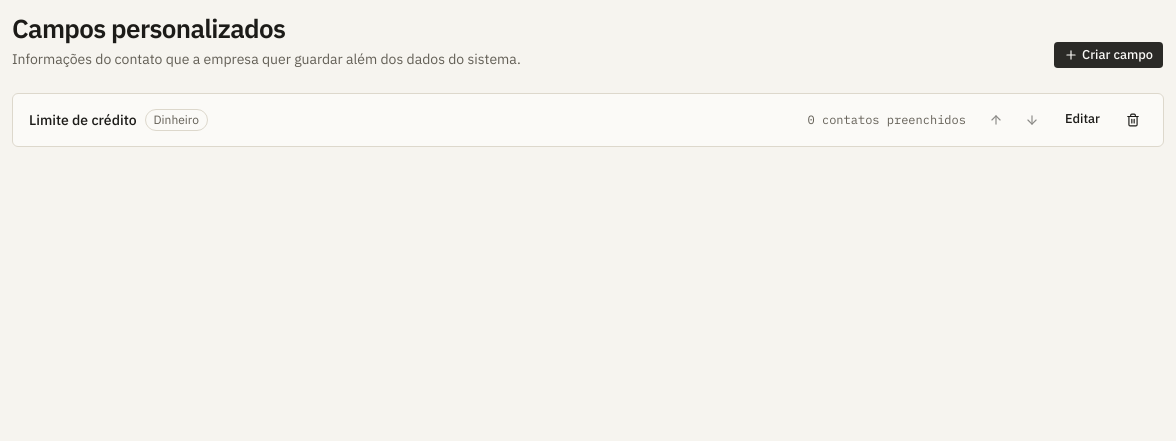
Scenario: B38-05 — variáveis com texto reserva nas telas › CA-B38-14: should mostrar a variável do campo no editor do campo
This screenshot has width=1176, height=441.
Click the button "Editar": click(1082, 120) [1054,106,1111,134]
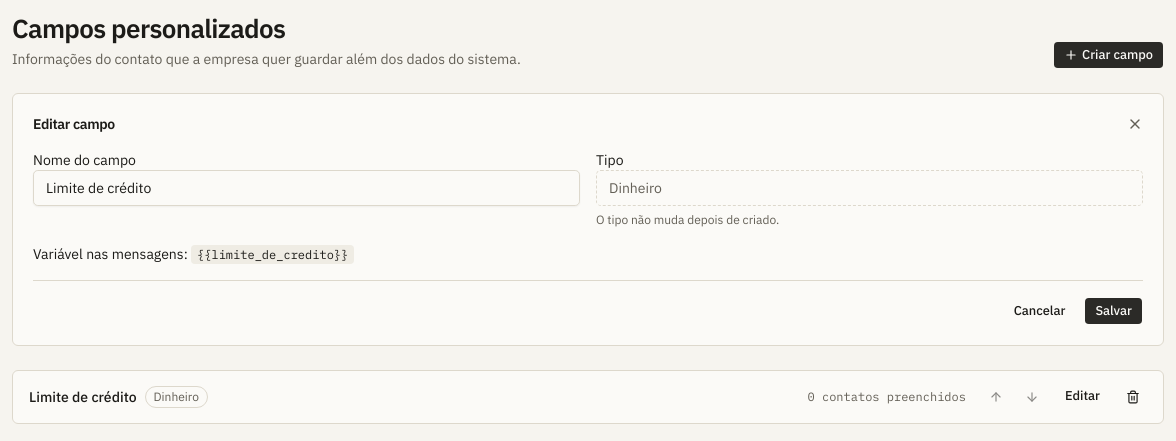
Now the text "{{limite_de_credito}}" is shown, box [191,244,354,264]
